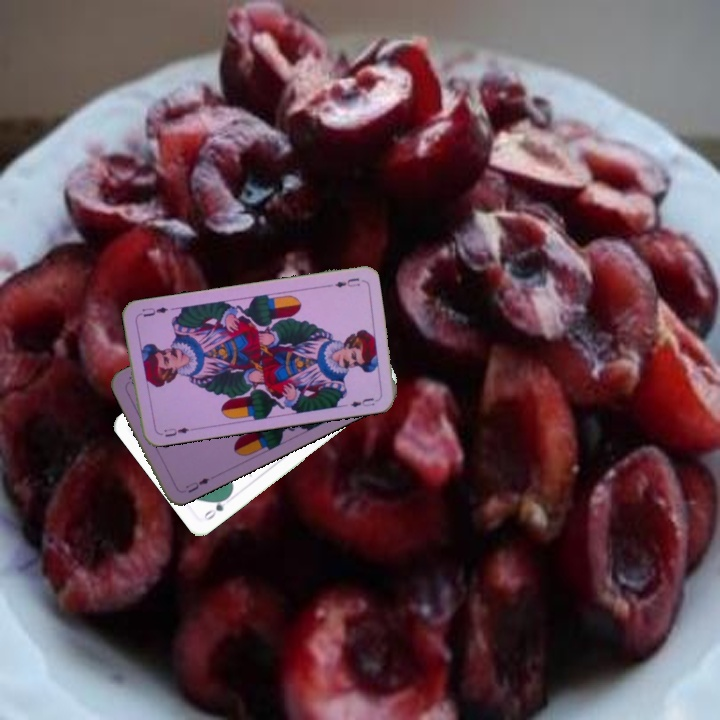EU: (181, 474, 212, 496), (160, 423, 191, 439), (331, 274, 362, 290)
GO: (199, 491, 232, 523)
